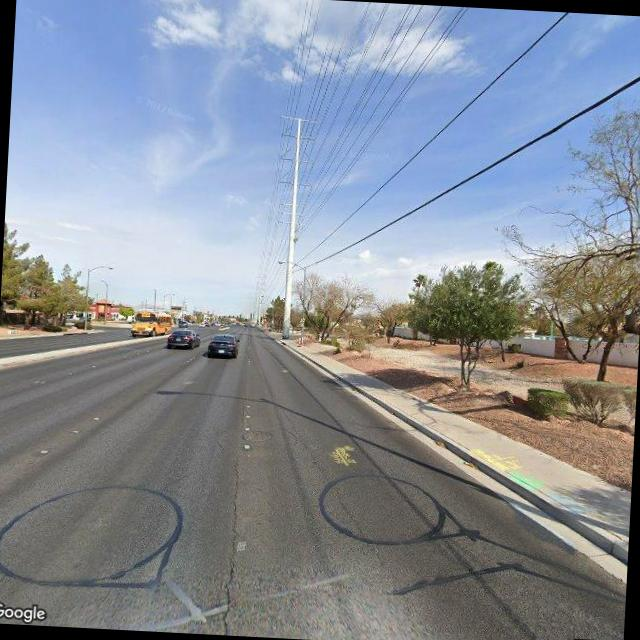pothole: (212, 452, 250, 635)
